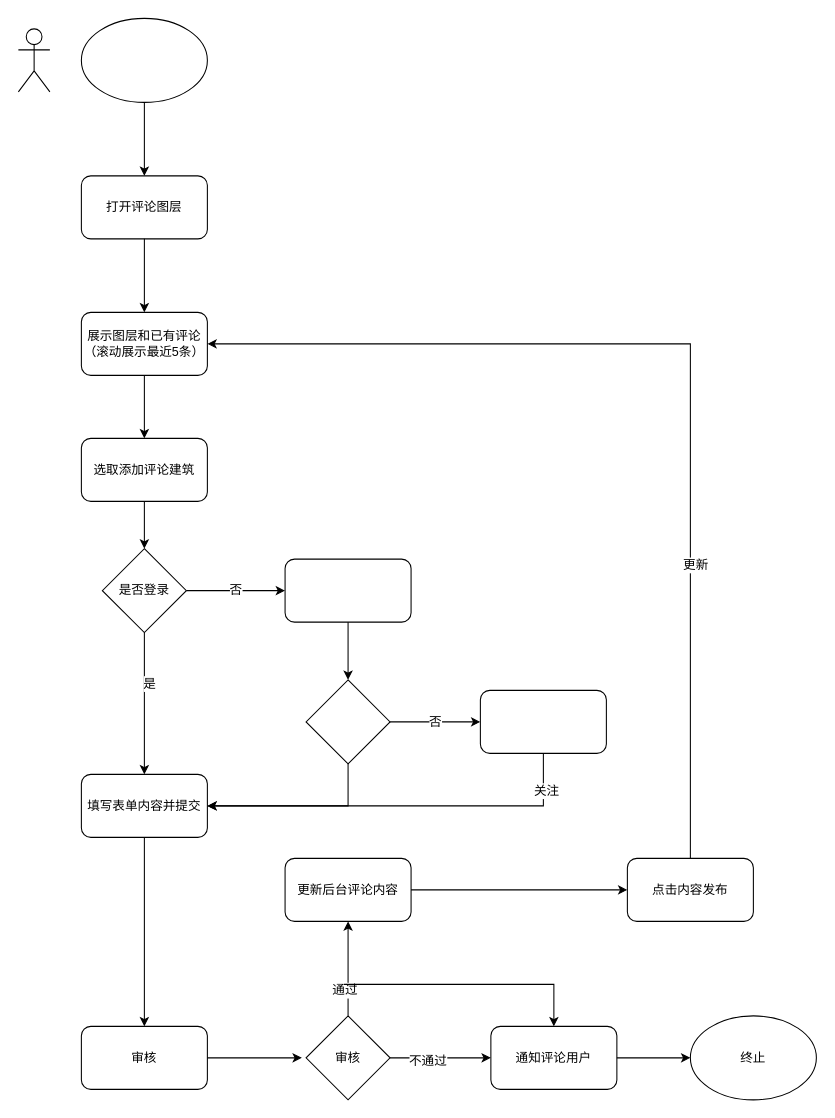
This 835x1118 diagram has some shape labels left out. Here are the shapes that lost their labels. From the top down, the centre of each, then its label:
(33,60): Actor
(143,59): 开始
(347,590): 打开登录页面，微信扫码登录
(347,721): 是否已注册
(542,721): 微信公众号关注二维码关注
